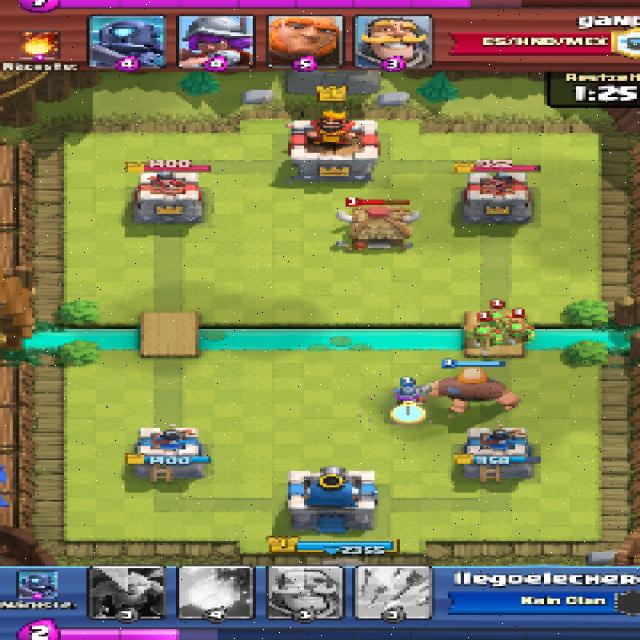Enemy-GoblinHut: (330, 207, 421, 250)
Enemy-SpearGoblin: (506, 321, 537, 343), (468, 327, 499, 348), (486, 312, 508, 330)
Player-Giant: (429, 367, 526, 416)
Player-Musketeer: (389, 386, 426, 410)
